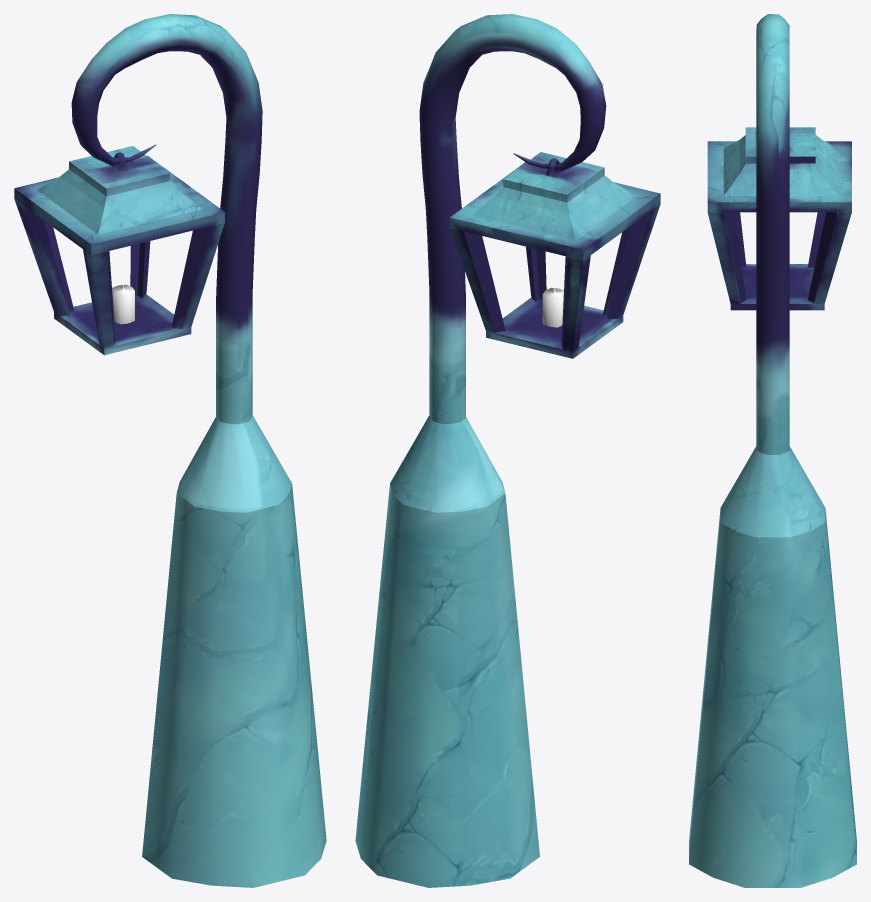
File: checkpoint2.fbx
The picture shows the model from 3 angles, left to right: view 1: azimuth 30°, elevation 25°; view 2: azimuth 150°, elevation 25°; view 3: azimuth 270°, elevation 25°; orthographic projection. The views are drawn at different scales.
Parts seen in each view (by area): view 1: Cube; view 2: Cube; view 3: Cube.
Boxes of the visible parts, <box> form: Cube: <box>14,14,326,887</box>; Cube: <box>355,14,660,887</box>; Cube: <box>689,14,856,887</box>.
Size of the model in its own units: 412 by 1308 by 251.
